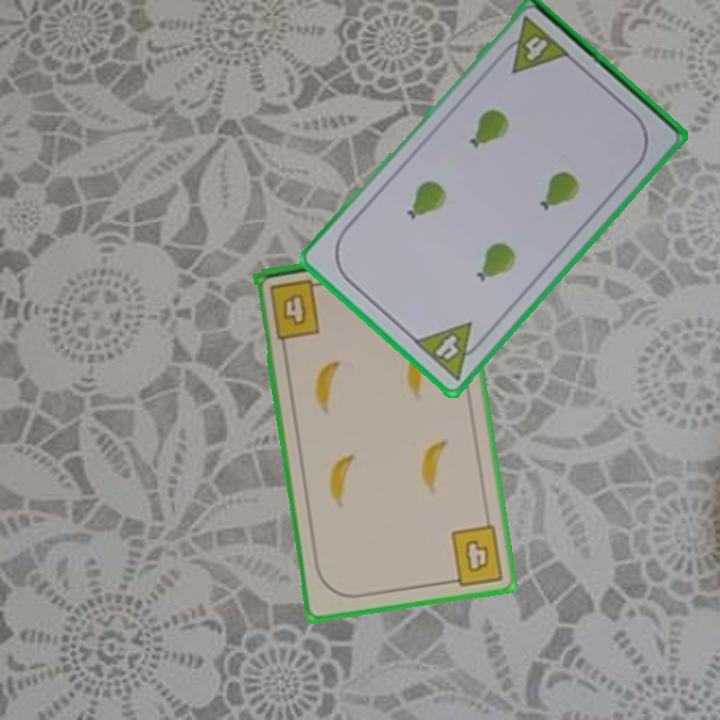4b: (443, 522, 507, 589), (266, 275, 329, 342)
4p: (409, 318, 490, 384), (494, 13, 573, 77)
